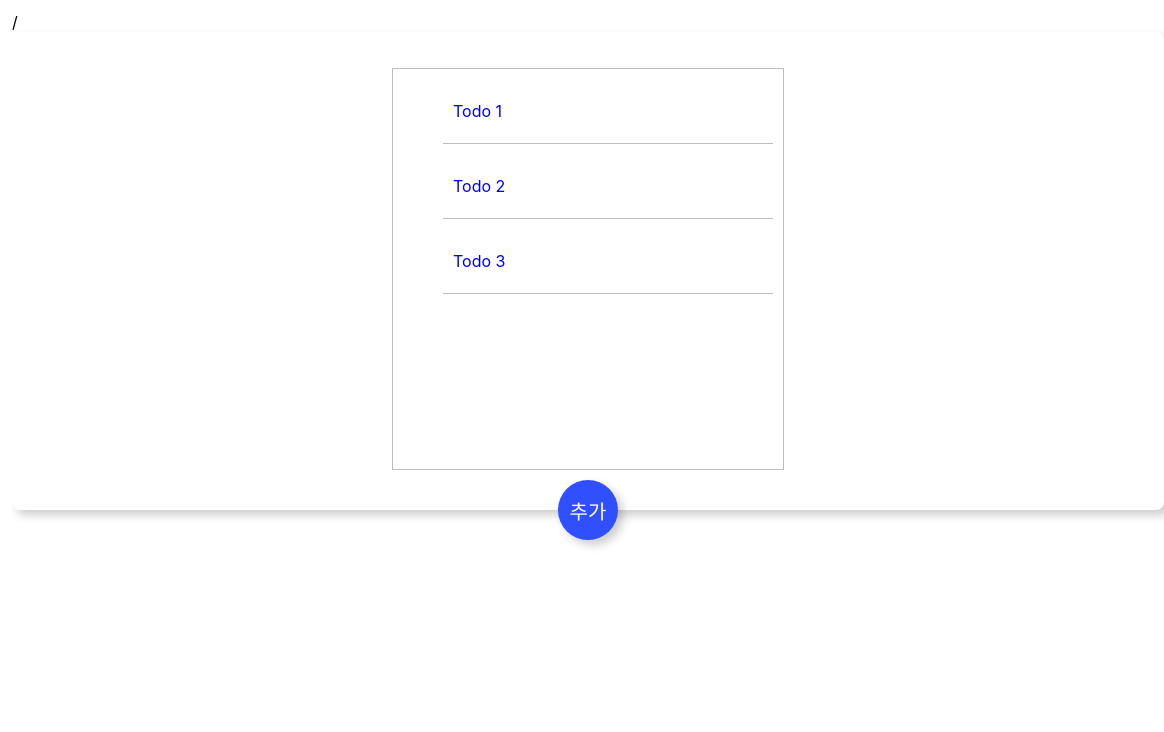
Test: <List/> › moves to detail page
The image size is (1164, 732).
Expected: the text "/" is shown, x1=12 y1=12 x2=18 y2=32
Step 1. Click the link "Todo 2" → [479, 186], box x1=453 y1=176 x2=505 y2=196
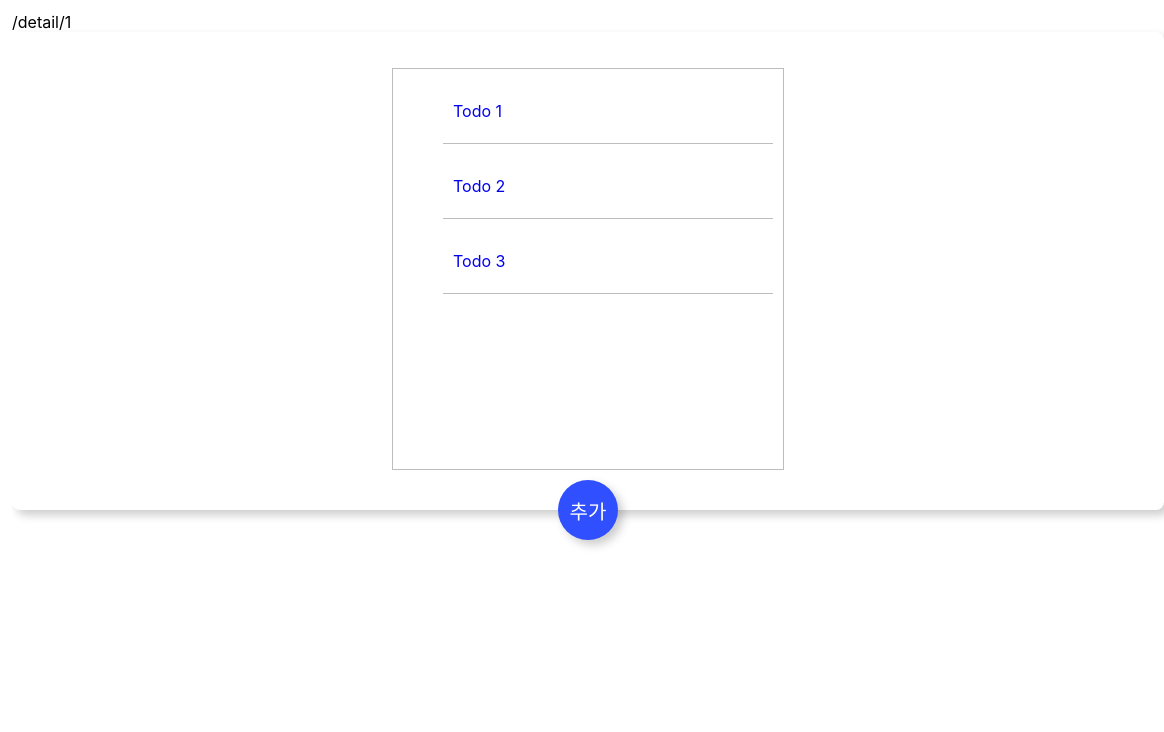
Result: the text "/" reads "/detail/1" at x1=12 y1=12 x2=71 y2=32
